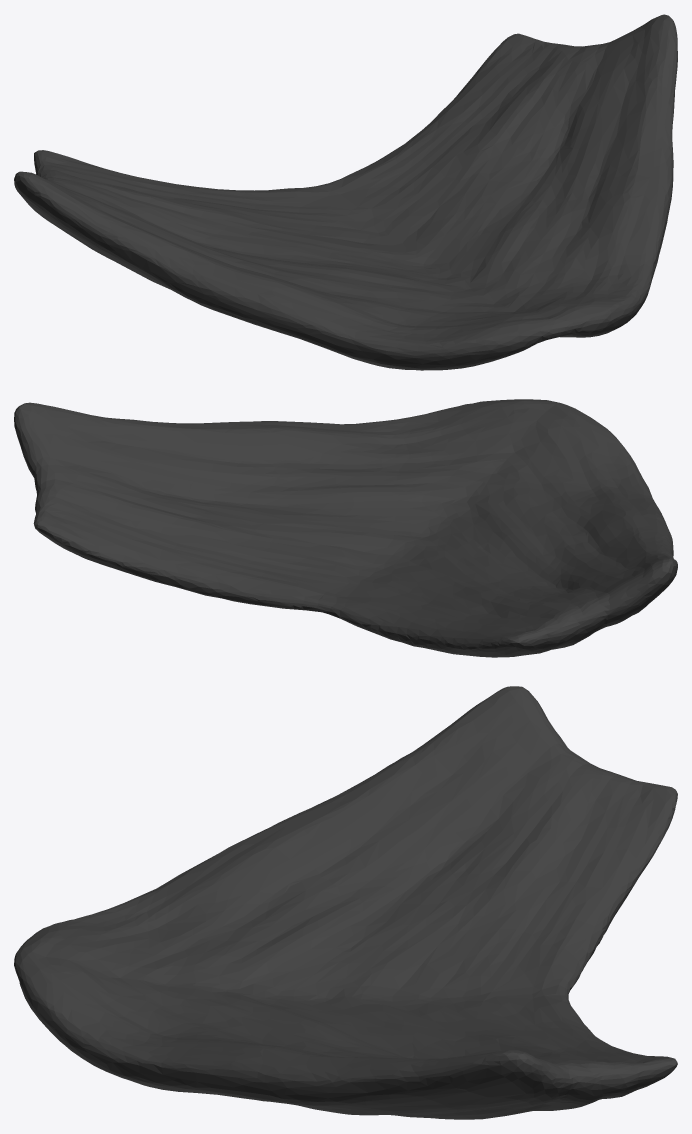
Rendered from m_frontalis.glb.
3 renders of one model, top to bottom at view 1: azimuth 30°, elevation 25°; view 2: azimuth 150°, elevation 25°; view 3: azimuth 270°, elevation 25°, orthographic. The views are drawn at different scales.
Parts seen in each view (by area): view 1: m_frontalis; view 2: m_frontalis; view 3: m_frontalis.
Boxes of the visible parts, <box> form: m_frontalis: <box>14,14,677,370</box>; m_frontalis: <box>14,399,677,657</box>; m_frontalis: <box>14,686,677,1119</box>.
Size of the model in its own units: 0.00229 by 0.000455 by 0.00173.
1 material, 1 textured.
